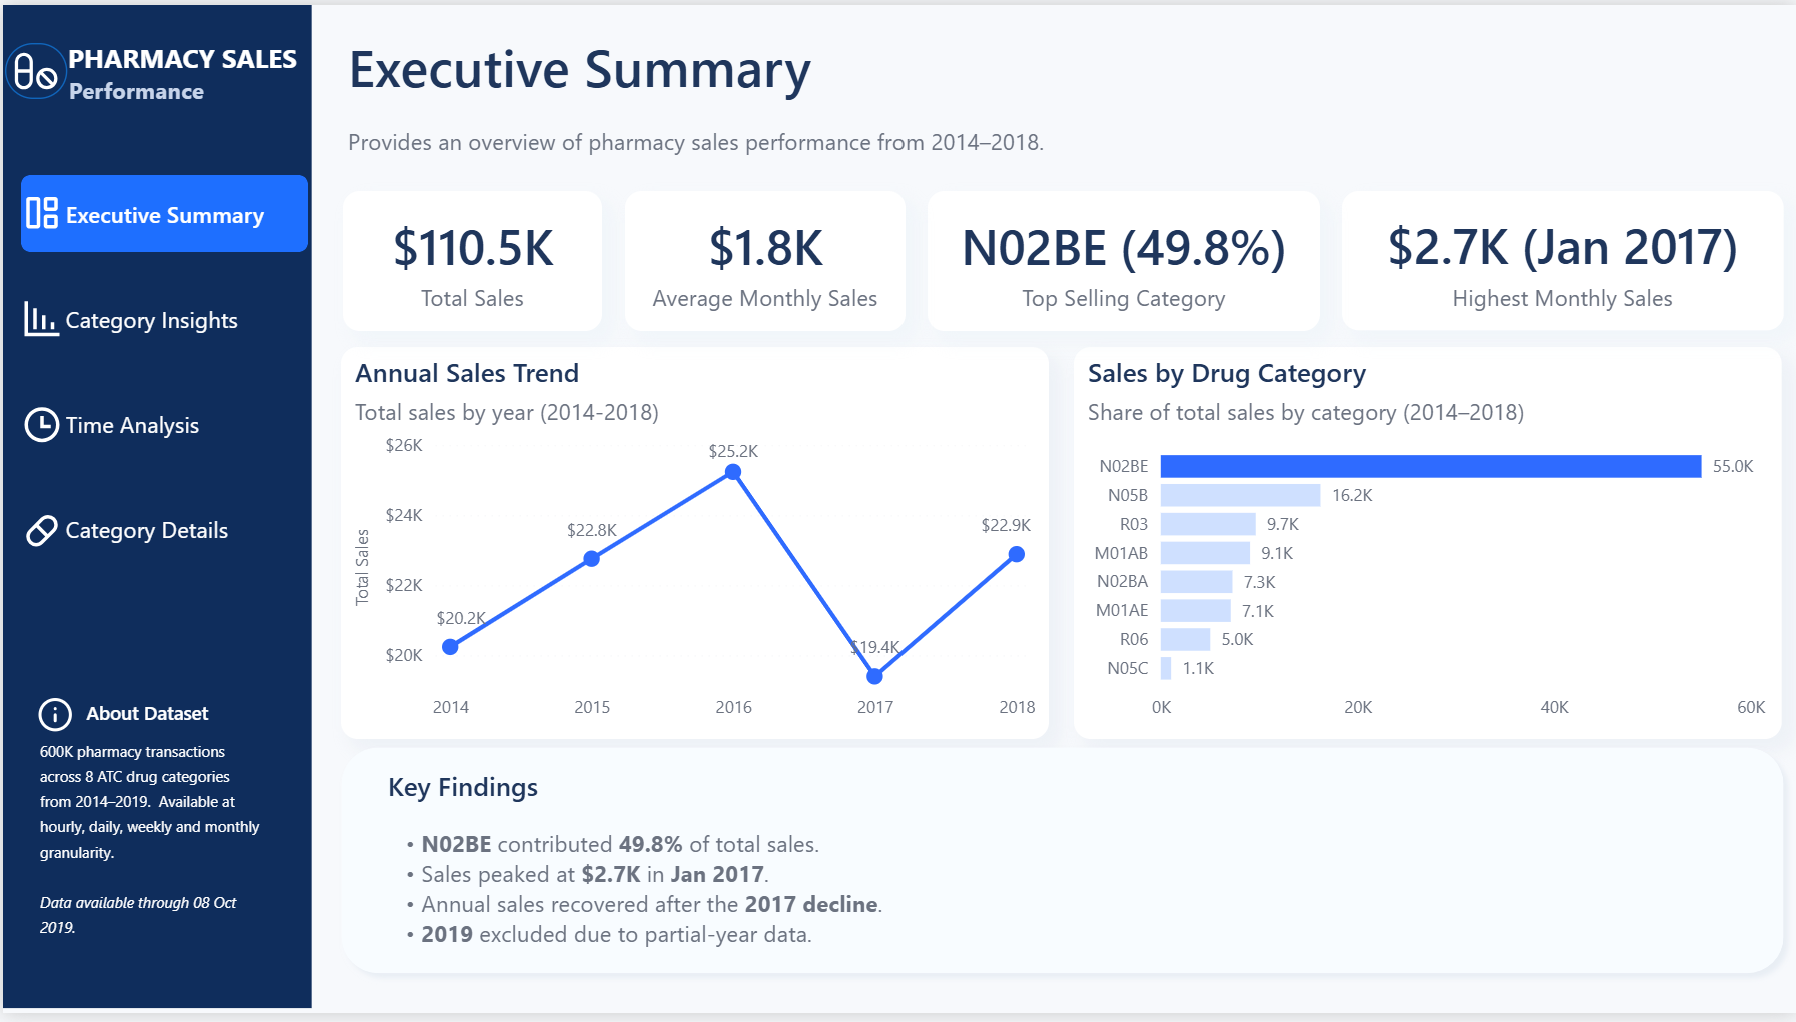

Layout of this report page (visuals, bound fields, positions):
{"tool":"powerbi","page":{"name":"Executive Summary","canvas":[1280,720],"ordinal":0},"visuals":[{"type":"shape","box":[0,0,220.5,716.6],"z":0},{"type":"lineChart","title":"Annual Sales Trend","fields":{"Category":["Date Table.Year"],"Y":["Fact Sales Monthly.Total Sales"]},"box":[241.9,245,505,280.2],"z":1000},{"type":"clusteredBarChart","title":"Sales by Drug Category","fields":{"Category":["Fact Sales Monthly.Drug Category"],"Y":["Sum(Fact Sales Monthly.Sales)"]},"box":[764,245,505.3,280.2],"z":2000},{"type":"shape","box":[232.7,522.1,1047.3,179.1],"z":2500,"group":"g1"},{"type":"textbox","box":[241.9,12.2,762.5,134.7],"z":3000},{"type":"textbox","box":[269.8,540.5,1010.1,171.5],"z":3000,"group":"g1"},{"type":"card","fields":{"Values":["Fact Sales Monthly.Total Sales"]},"box":[243.4,132.4,185,100],"z":4000},{"type":"card","fields":{"Values":["_Measures.Peak Month Summary"]},"box":[955.4,132.4,315.4,99.5],"z":5000},{"type":"card","fields":{"Values":["_Measures.Top Category Summary"]},"box":[659.8,132.4,280,100],"z":6000},{"type":"card","fields":{"Values":["Fact Sales Monthly.Average Monthly Sales"]},"box":[444.1,132.4,200,100],"z":7000},{"type":"group","id":"g1","title":"Group 1","box":[232.7,522.1,1047.3,189.9],"z":8000},{"type":"actionButton","box":[0,0,100,40],"z":9000},{"type":"textbox","box":[15.3,19.9,228.1,72],"z":10000},{"type":"pageNavigator","box":[12.2,121,205.2,280.2],"z":11000},{"type":"image","box":[12.2,284.3,30,30.6],"z":12000},{"type":"image","box":[12.2,208.7,30,30.6],"z":13000},{"type":"image","box":[12.2,359.8,30,30.6],"z":14000},{"type":"image","box":[12.2,133.2,30,30.6],"z":15000},{"type":"image","box":[1.5,27.6,44.4,39.8],"z":16000},{"type":"textbox","box":[21.4,491.5,188.3,33.7],"z":17000},{"type":"image","box":[24.5,491.5,26,30.6],"z":18000},{"type":"textbox","box":[21.4,480.8,170,197.5],"z":19000}]}

Visuals, with their boxes in screenshot pixels (x1, y1, x2, y2), scaled from the page's 1280x720 canvas onto the 1796x1022 screenshot:
shape: bbox(0, 0, 309, 1017)
"Annual Sales Trend" lineChart: bbox(339, 348, 1048, 745)
"Sales by Drug Category" clusteredBarChart: bbox(1072, 348, 1781, 745)
shape: bbox(327, 741, 1795, 995)
textbox: bbox(339, 17, 1409, 209)
textbox: bbox(379, 767, 1795, 1011)
card - Fact Sales Monthly.Total Sales: bbox(342, 188, 601, 330)
card - _Measures.Peak Month Summary: bbox(1341, 188, 1783, 329)
card - _Measures.Top Category Summary: bbox(926, 188, 1319, 330)
card - Fact Sales Monthly.Average Monthly Sales: bbox(623, 188, 904, 330)
"Group 1" group: bbox(327, 741, 1795, 1011)
actionButton: bbox(0, 0, 140, 57)
textbox: bbox(21, 28, 342, 130)
pageNavigator: bbox(17, 172, 305, 569)
image: bbox(17, 404, 59, 447)
image: bbox(17, 296, 59, 340)
image: bbox(17, 511, 59, 554)
image: bbox(17, 189, 59, 233)
image: bbox(2, 39, 64, 96)
textbox: bbox(30, 698, 294, 745)
image: bbox(34, 698, 71, 741)
textbox: bbox(30, 682, 269, 963)
